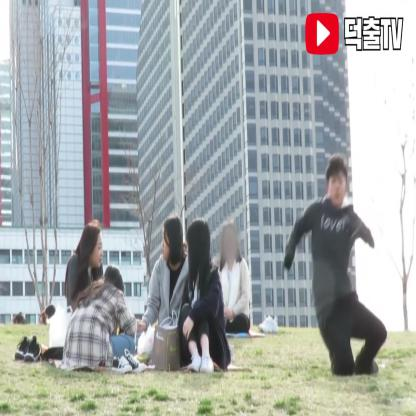Fall_Down: (282, 151, 391, 379)
